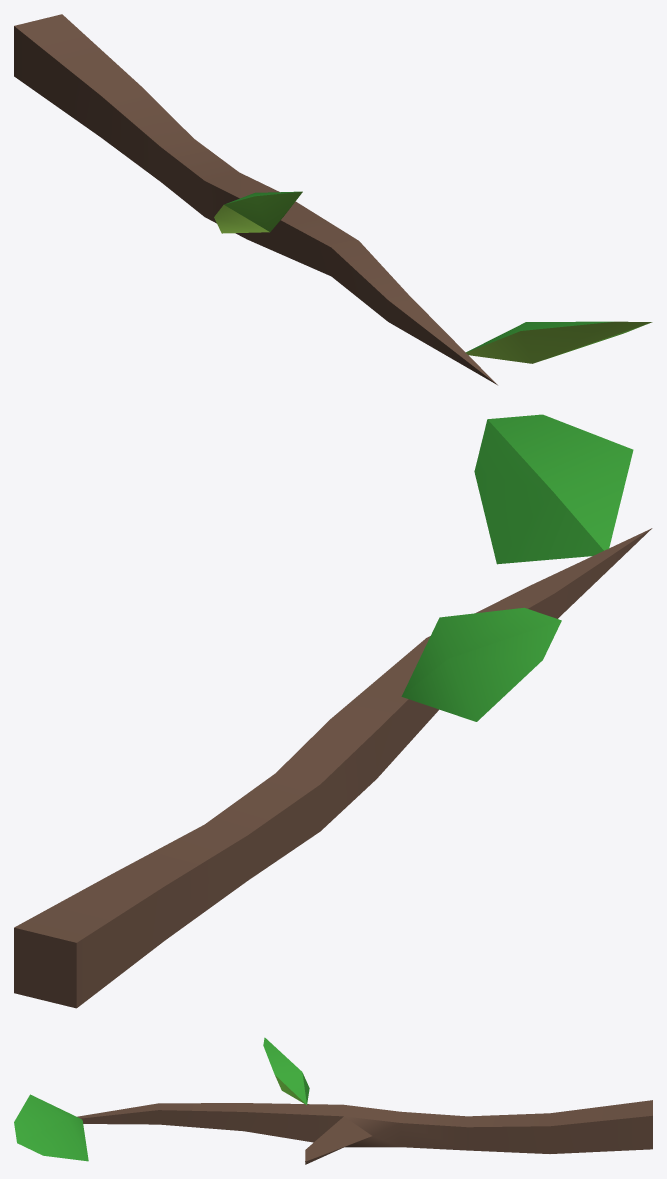
File: WoodStick.fbx
3 renders of one model, top to bottom at view 1: azimuth 30°, elevation 25°; view 2: azimuth 150°, elevation 25°; view 3: azimuth 270°, elevation 25°, orthographic. The views are drawn at different scales.
Visible parts, largest first — view 1: WoodStick_mesh; view 2: WoodStick_mesh; view 3: WoodStick_mesh.
Part boxes in pixels (left/top/right/bottom): WoodStick_mesh: left=14, top=14, right=652, bottom=385; WoodStick_mesh: left=14, top=414, right=652, bottom=1008; WoodStick_mesh: left=14, top=1037, right=652, bottom=1164.
Bounding box in the file's own units: 15.14 × 7.4 × 51.7.
